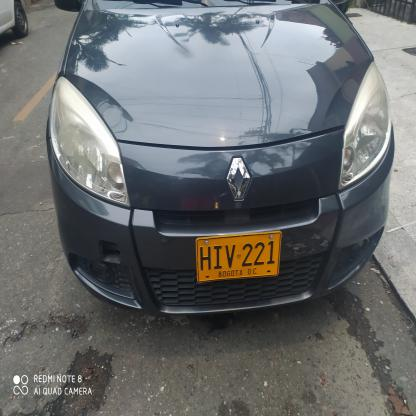placa: (187, 228, 288, 284)
